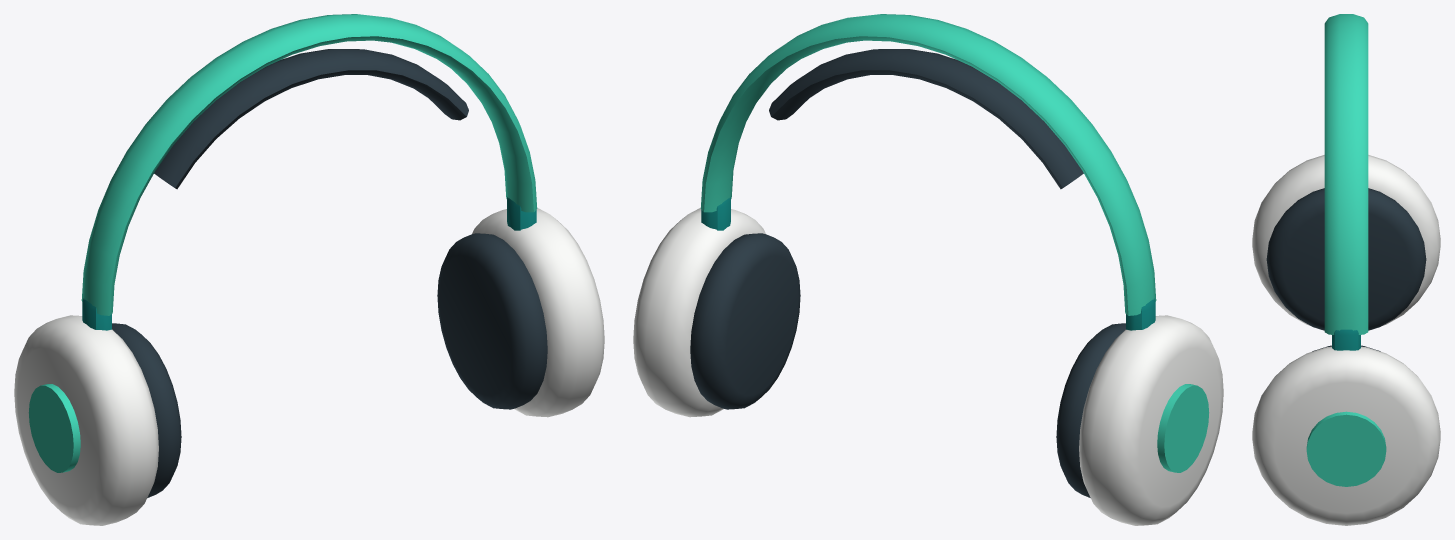
Rendered from extra_headphones.glb.
3 renders of one model, left to right at view 1: azimuth 30°, elevation 25°; view 2: azimuth 150°, elevation 25°; view 3: azimuth 270°, elevation 25°, orthographic. The views are drawn at different scales.
Visible parts, largest first — view 1: extra_headphones; view 2: extra_headphones; view 3: extra_headphones.
Part boxes in pixels (left/top/right/bottom): extra_headphones: left=14, top=14, right=604, bottom=525; extra_headphones: left=633, top=14, right=1223, bottom=525; extra_headphones: left=1252, top=14, right=1440, bottom=525.
Bounding box in the file's own units: 7.3 × 5.93 × 2.6.
